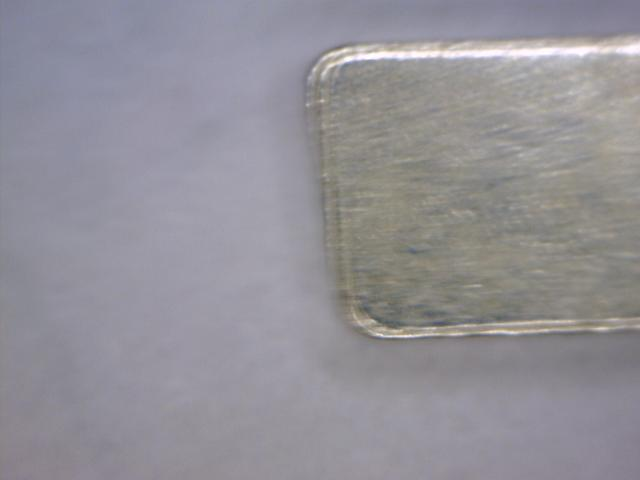nok: (303, 34, 639, 350)
